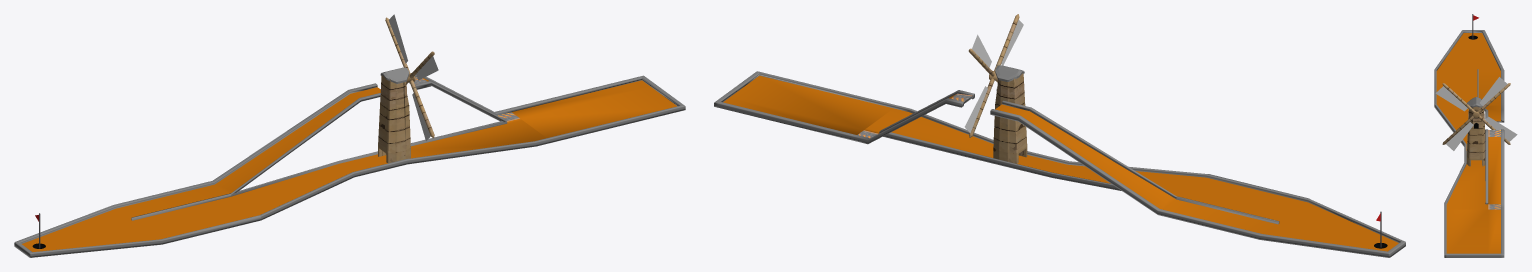
3 renders of one model, left to right at view 1: azimuth 30°, elevation 25°; view 2: azimuth 150°, elevation 25°; view 3: azimuth 270°, elevation 25°, orthographic. The views are drawn at different scales.
Parts seen in each view (by area): view 1: course, walls, building, windmill; view 2: course, walls, building, windmill; view 3: course, walls, windmill, building, flag.
Boxes of the visible parts, x1,y1,x2,y2 form: course: [22, 77, 676, 251]; walls: [14, 75, 685, 257]; building: [378, 67, 410, 163]; windmill: [385, 14, 438, 140]; course: [723, 75, 1398, 251]; walls: [714, 71, 1405, 257]; building: [993, 65, 1027, 163]; windmill: [964, 14, 1023, 137]; course: [1436, 33, 1500, 253]; walls: [1434, 30, 1504, 257]; windmill: [1435, 77, 1517, 150]; building: [1466, 97, 1485, 166]; flag: [1472, 14, 1478, 39].
Size of what is drawn, in the model's own units: 27573 by 5349 by 4321.
